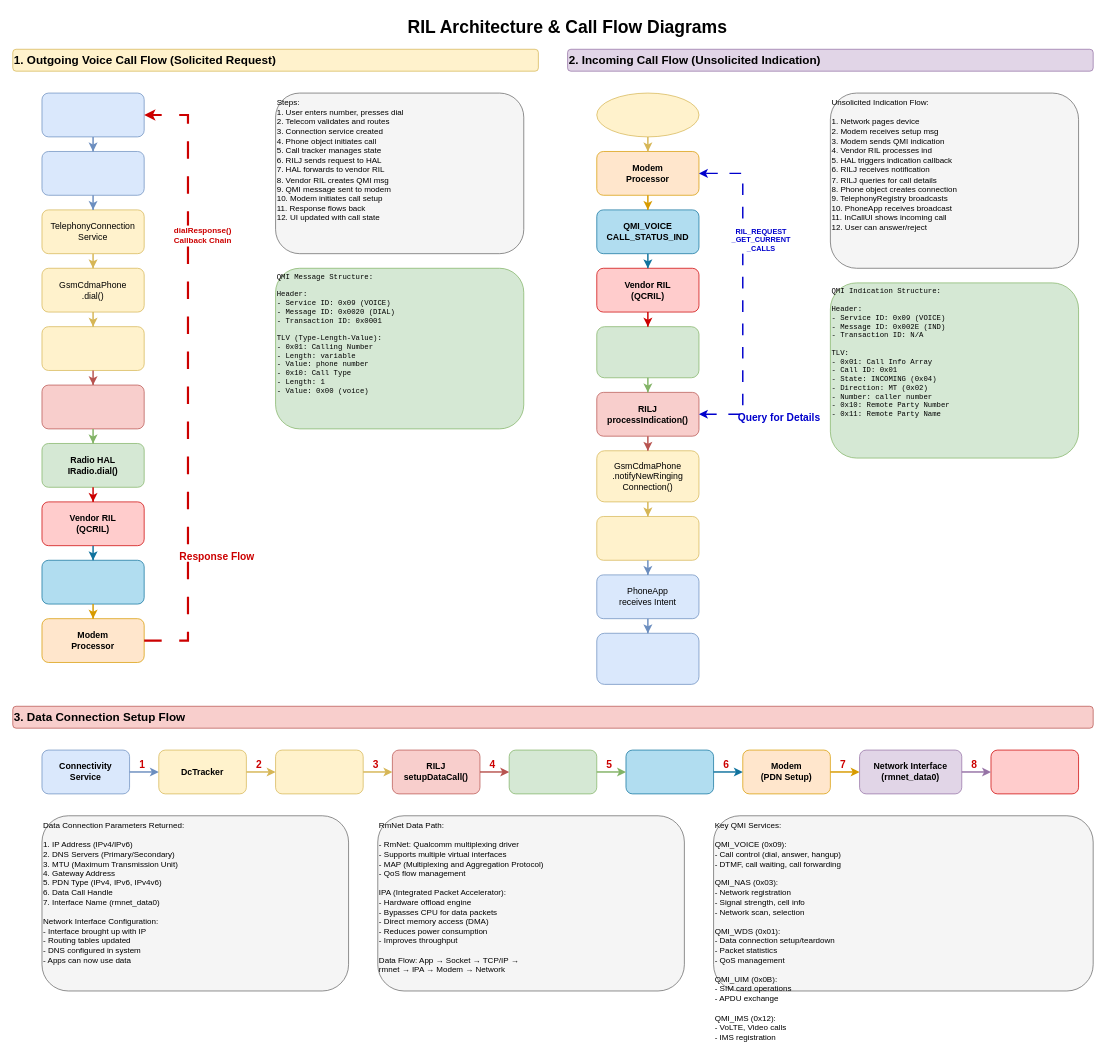
The diagram is 1106 pixels wide and 1054 high, and some of its shapes have lost their labels. The shapes that lost their labels are listed below. From the top down, each one's centre as x and y in pixels, then its label:
At pixel 92 114: "Phone App (Dialer UI)".
At pixel 647 114: "Network (Incoming Call)".
At pixel 92 173: "Telecom Framework".
At pixel 92 348: "GsmCdmaCall Tracker".
At pixel 647 352: "Radio HAL IRadioIndication .callStateChanged()".
At pixel 92 406: "RILJ RIL_REQUEST_DIAL".
At pixel 647 538: "TelephonyRegistry .notifyCallState()".
At pixel 92 582: "QMI_VOICE DIAL_CALL_REQ".
At pixel 647 658: "InCallUI shows incoming call screen".
At pixel 319 771: "DataConnection State Machine".
At pixel 552 771: "Radio HAL (Data)".
At pixel 669 771: "QMI_WDS START_NET_REQ".
At pixel 1034 771: "IPA (Packet Accel)".
